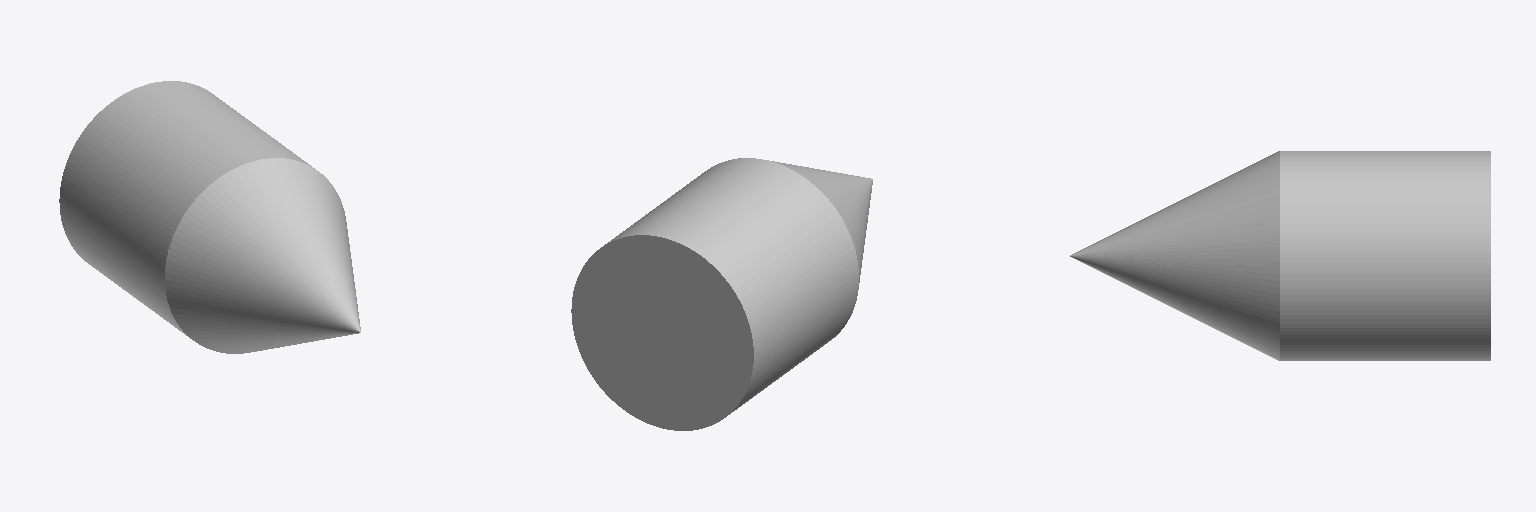
Rendered from testing.obj.
The picture shows the model from 3 angles: view 1: azimuth 30°, elevation 25°; view 2: azimuth 150°, elevation 25°; view 3: azimuth 270°, elevation 25°; orthographic projection.
Parts seen in each view (by area): view 1: Object.1, Object.2; view 2: Object.2, Object.1; view 3: Object.2, Object.1.
Boxes of the visible parts, x1,y1,x2,y2 form: Object.1: [165, 158, 360, 353]; Object.2: [59, 81, 322, 338]; Object.2: [571, 158, 858, 430]; Object.1: [738, 158, 872, 312]; Object.2: [1280, 151, 1490, 360]; Object.1: [1070, 151, 1279, 360].
Size of the model in its own units: 40 by 40 by 80.